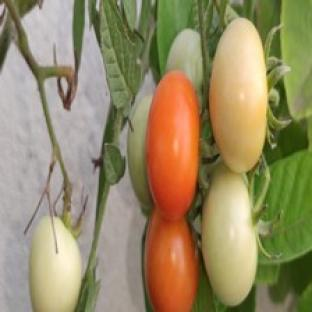Tomato: (209, 19, 267, 172), (201, 165, 257, 306), (147, 72, 199, 220), (145, 208, 199, 311), (30, 216, 82, 311), (127, 95, 153, 210), (166, 28, 203, 91)
